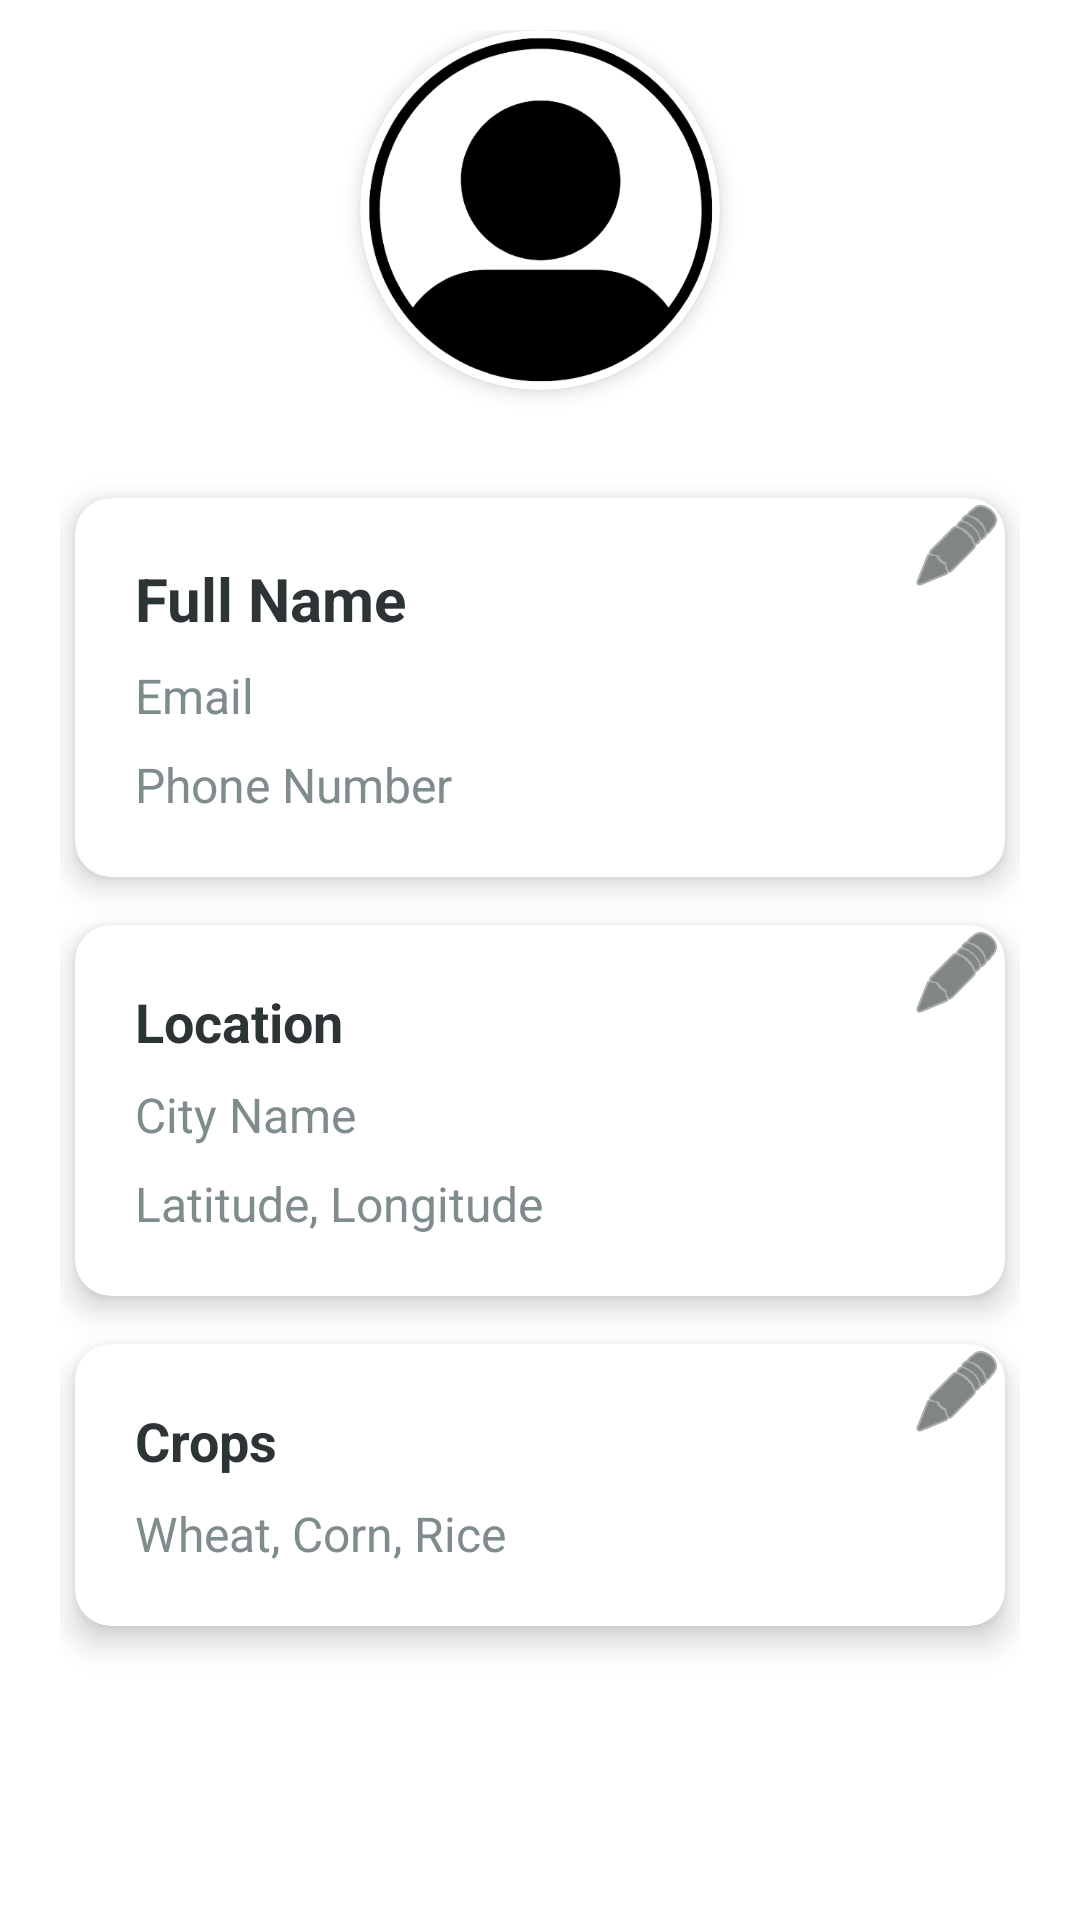

Screen size 1080px×1920px. Icon name, then its center in pixels as point (x, y):
Edit User Info: point (959, 545)
profile: point (544, 214)
